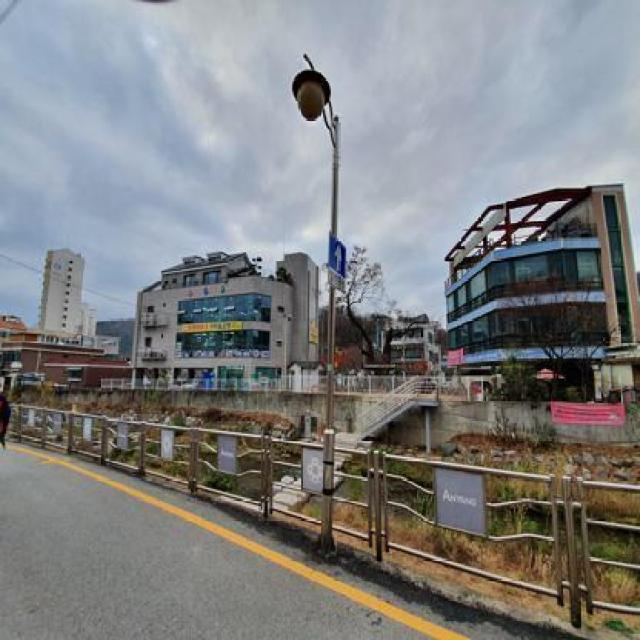fence: (376, 450, 628, 614)
pole: (308, 118, 358, 564)
